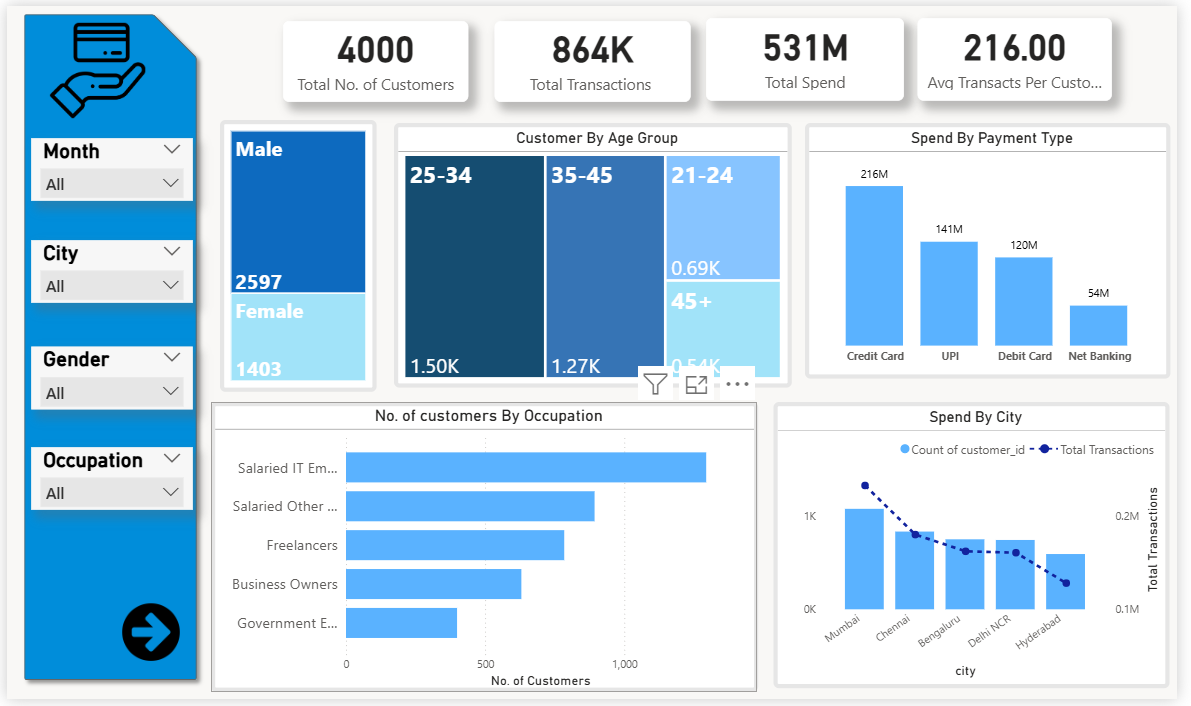

The dashboard page shown, as its layout file describes it:
{"tool":"powerbi","page":{"name":"OverView","canvas":[1300,770],"ordinal":0},"visuals":[{"type":"treemap","title":"Customer By Age Group","fields":{"Group":["dim_customers.age_group"],"Values":["CountNonNull(dim_customers.customer_id)"]},"box":[430,130,442,294],"z":0},{"type":"card","fields":{"Values":["Count(dim_customers.customer_id)"]},"box":[306,16,206,90],"z":1000},{"type":"card","fields":{"Values":["fact_spends.Total Trans"]},"box":[542,16,218,90],"z":2000},{"type":"card","fields":{"Values":["Sum(fact_spends.spend)"]},"box":[776,14,220,92],"z":3000},{"type":"card","fields":{"Values":["Calculated Measures.Avg trans by customers"]},"box":[1012,14,216,92],"z":4000},{"type":"lineClusteredColumnComboChart","title":"Spend By City","fields":{"Category":["dim_customers.city"],"Y":["CountNonNull(dim_customers.customer_id)"],"Y2":["CountNonNull(fact_spends.spend)"]},"box":[852,440,440,318],"z":5000},{"type":"clusteredBarChart","title":"No. of customers By Occupation","fields":{"Category":["dim_customers.occupation"],"Y":["CountNonNull(dim_customers.customer_id)"]},"box":[226,440,608,322],"z":6000},{"type":"clusteredColumnChart","title":"Spend By Payment Type","fields":{"Category":["fact_spends.payment_type"],"Y":["Sum(fact_spends.spend)"]},"box":[886,130,406,284],"z":7000},{"type":"shape","box":[10,0,210,758],"z":8000},{"type":"slicer","fields":{"Values":["fact_spends.month"]},"box":[26.7,146.7,180,70],"z":9000},{"type":"slicer","fields":{"Values":["dim_customers.city"]},"box":[26.7,260.7,180,70],"z":10000},{"type":"slicer","fields":{"Values":["dim_customers.gender"]},"box":[26.7,378.7,180,70],"z":11000},{"type":"slicer","fields":{"Values":["dim_customers.occupation"]},"box":[26.7,490.7,180,70],"z":12000},{"type":"image","box":[42,14,118,116],"z":13000},{"type":"treemap","fields":{"Values":["CountNonNull(dim_customers.customer_id)"],"Group":["dim_customers.gender"]},"box":[236,126,174,302],"z":14000},{"type":"image","box":[116,658,86,74],"z":15000}]}

Visuals, with their boxes in screenshot pixels (x1, y1, x2, y2), scaled from the page's 1300x770 canvas onto the 1191x706 screenshot:
"Customer By Age Group" treemap: (394, 119, 799, 389)
card - Count(dim_customers.customer_id): (280, 15, 469, 97)
card - fact_spends.Total Trans: (497, 15, 696, 97)
card - Sum(fact_spends.spend): (711, 13, 912, 97)
card - Calculated Measures.Avg trans by customers: (927, 13, 1125, 97)
"Spend By City" lineClusteredColumnComboChart: (781, 403, 1184, 695)
"No. of customers By Occupation" clusteredBarChart: (207, 403, 764, 699)
"Spend By Payment Type" clusteredColumnChart: (812, 119, 1184, 380)
shape: (9, 0, 202, 695)
slicer - fact_spends.month: (24, 135, 189, 199)
slicer - dim_customers.city: (24, 239, 189, 303)
slicer - dim_customers.gender: (24, 347, 189, 411)
slicer - dim_customers.occupation: (24, 450, 189, 514)
image: (38, 13, 147, 119)
treemap - CountNonNull(dim_customers.customer_id) x dim_customers.gender: (216, 116, 376, 392)
image: (106, 603, 185, 671)
